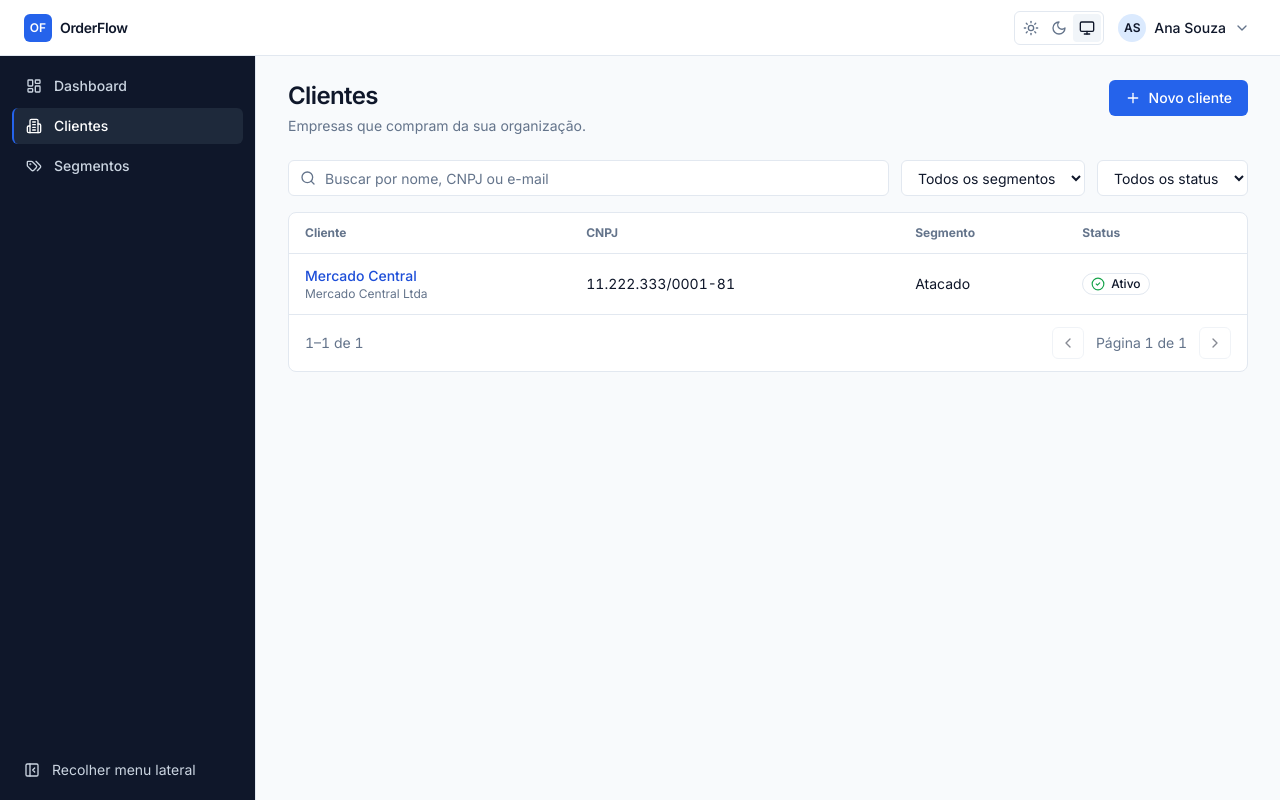
Test: CustomersPage › creates a customer and opens its detail page
Click the button "Novo cliente" at (1178, 98), box [1109,80,1248,116]
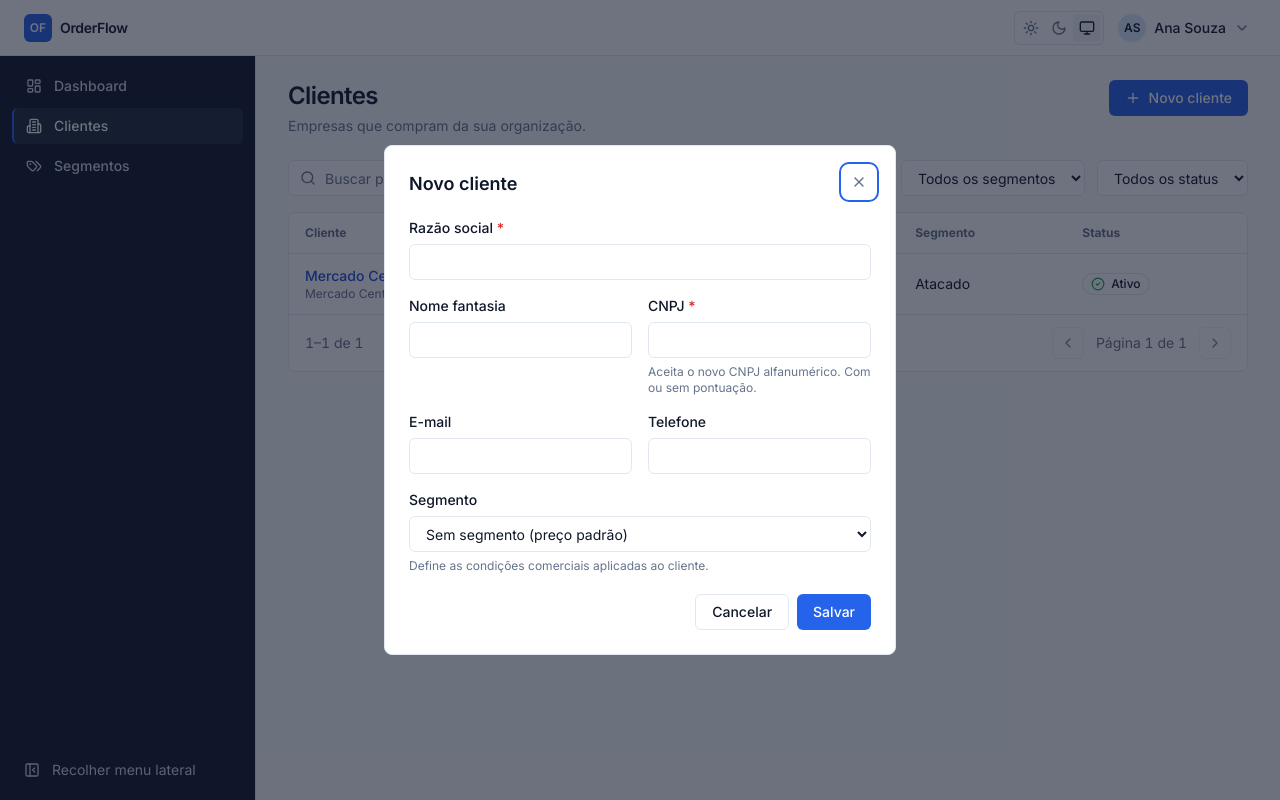
Type "Padaria Boa Ltda" into the field labelled "Razão social *" at (640, 262), box [409,244,871,280]
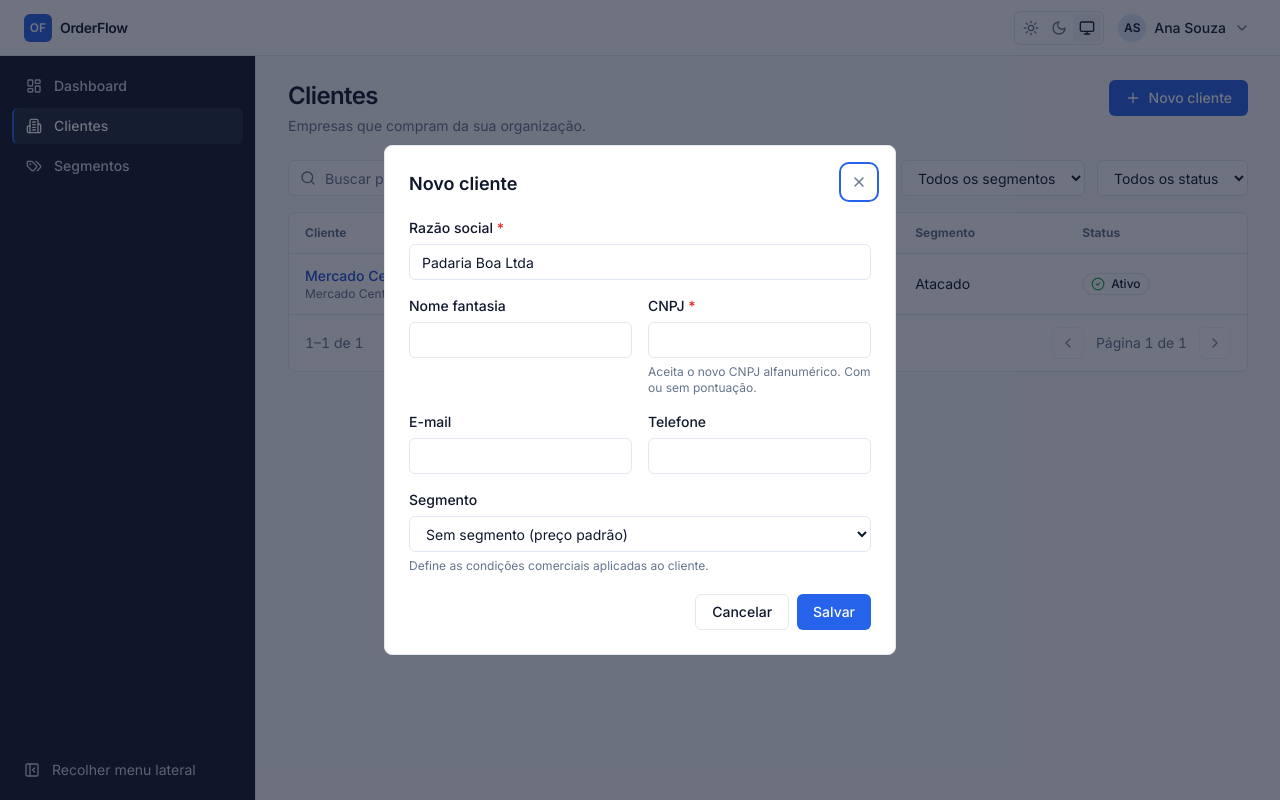
Type "11.222.333/0001-81" into the field labelled "CNPJ *" at (760, 340), box [648,322,871,358]
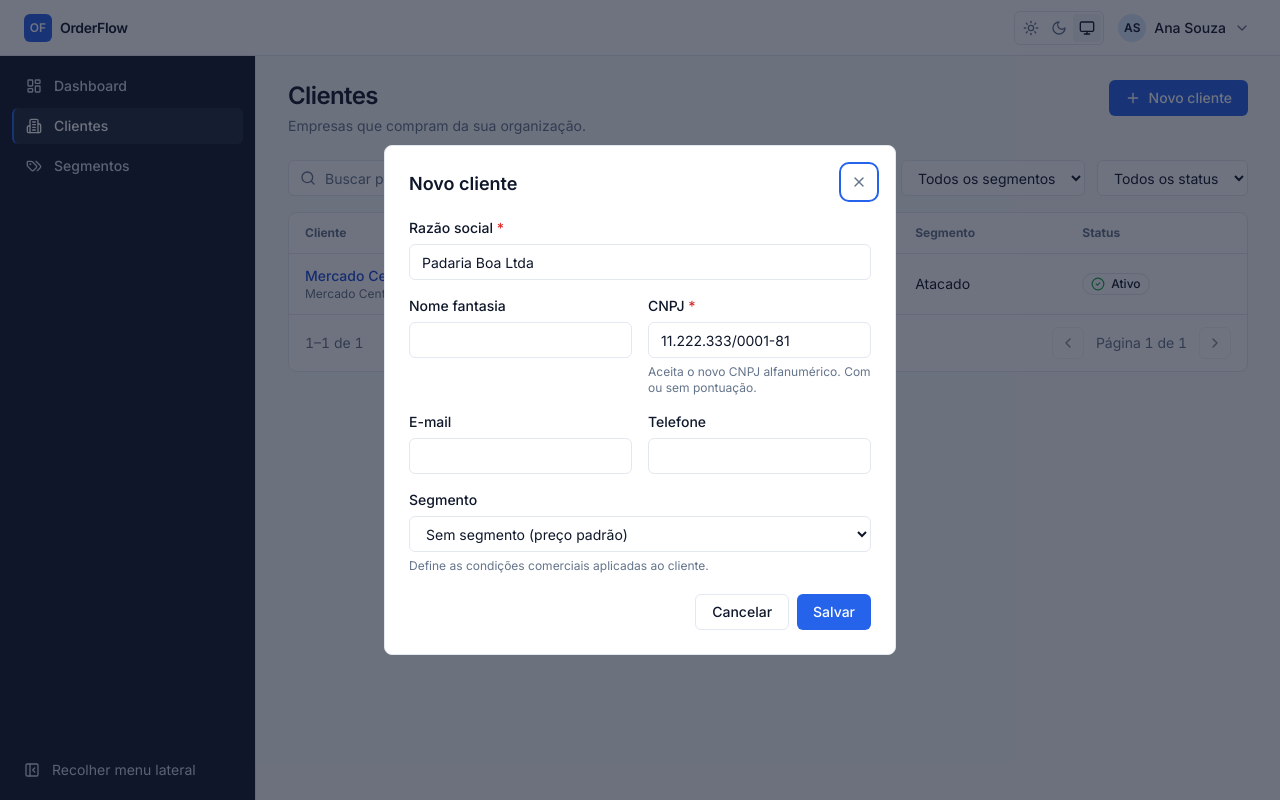
Select "Atacado" in the dropdown labelled "Segmento" at (640, 534), box [409,516,871,552]
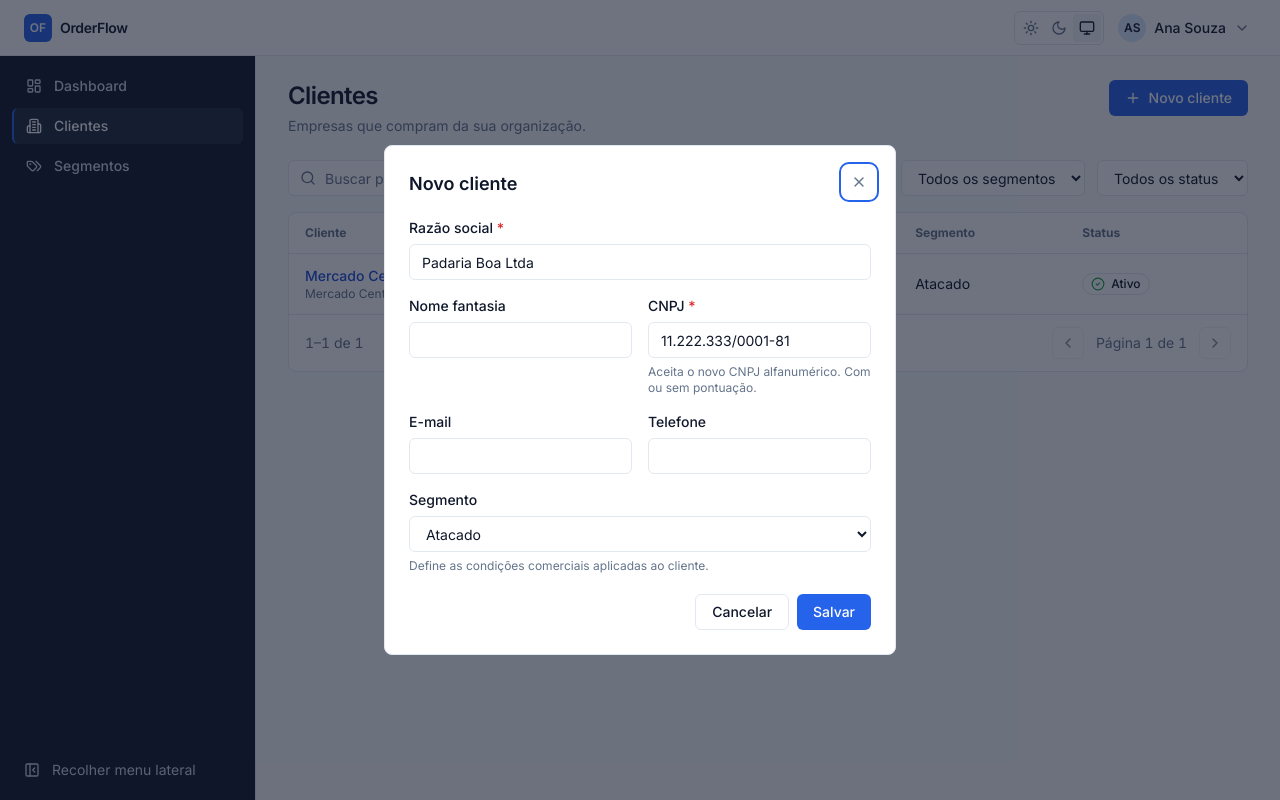
Submit the form with id "customer-form", box [409,218,871,574]
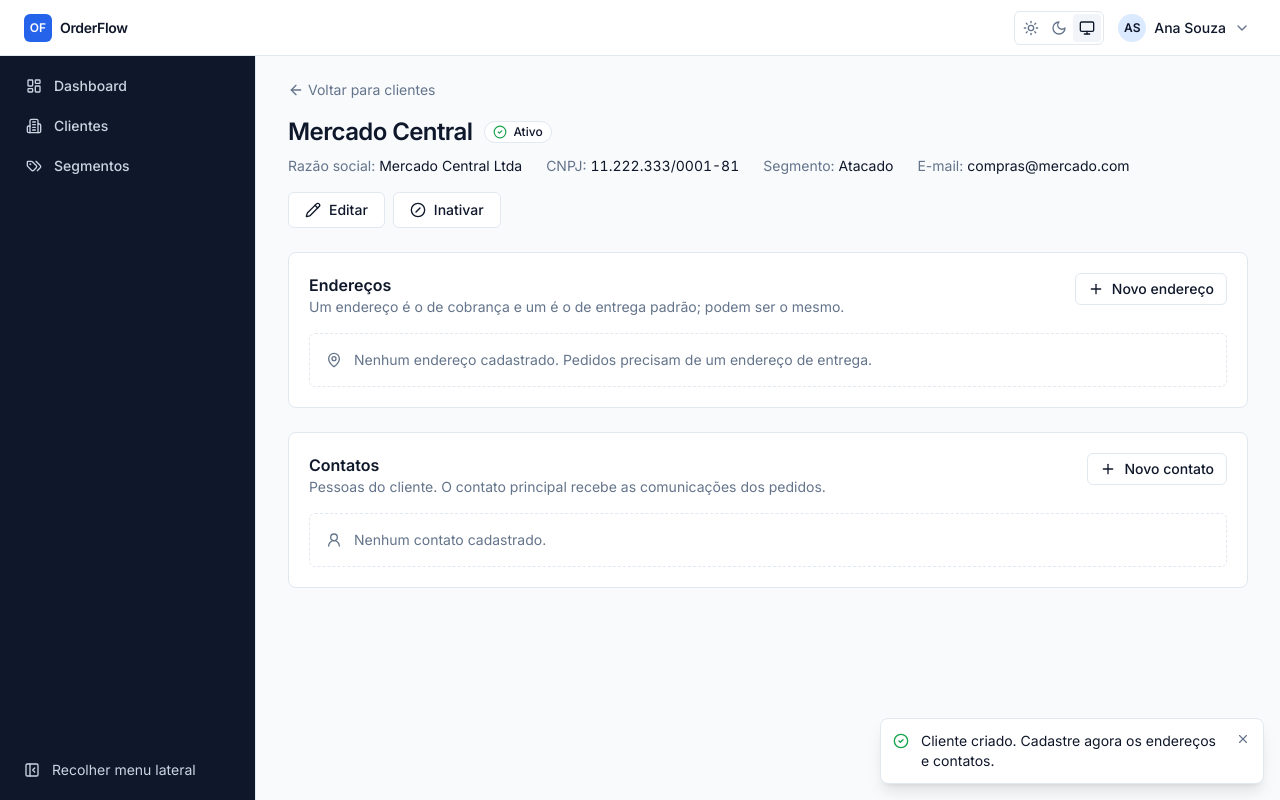
Expected: the text "Nenhum endereço cadastrado" is shown, [354,351,872,368]
